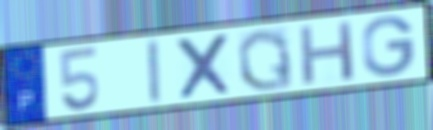5: (57, 45, 101, 112)
G: (360, 14, 417, 79)
H: (296, 18, 357, 88)
I: (144, 37, 164, 106)
Q: (235, 26, 296, 93)
X: (172, 31, 235, 101)
